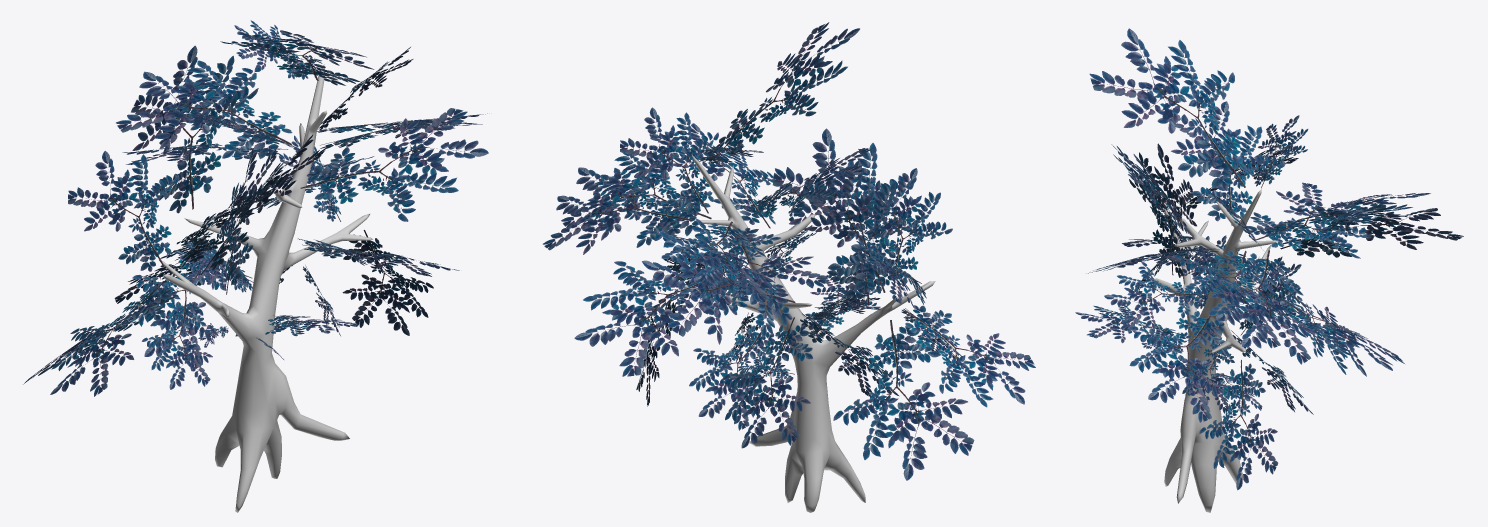
The model's file is Tree04_Foliage.fbx.
The picture shows the model from 3 angles, left to right: view 1: azimuth 30°, elevation 25°; view 2: azimuth 150°, elevation 25°; view 3: azimuth 270°, elevation 25°; orthographic projection. The views are drawn at different scales.
Visible parts, largest first — view 1: Tree2.002; view 2: Tree2.002; view 3: Tree2.002.
Part boxes in pixels (x1=…): Tree2.002: x1=23, y1=20, x2=488, y2=512; Tree2.002: x1=542, y1=22, x2=1035, y2=512; Tree2.002: x1=1075, y1=28, x2=1463, y2=512.
Size of the model in its own units: 634 by 633 by 488.
